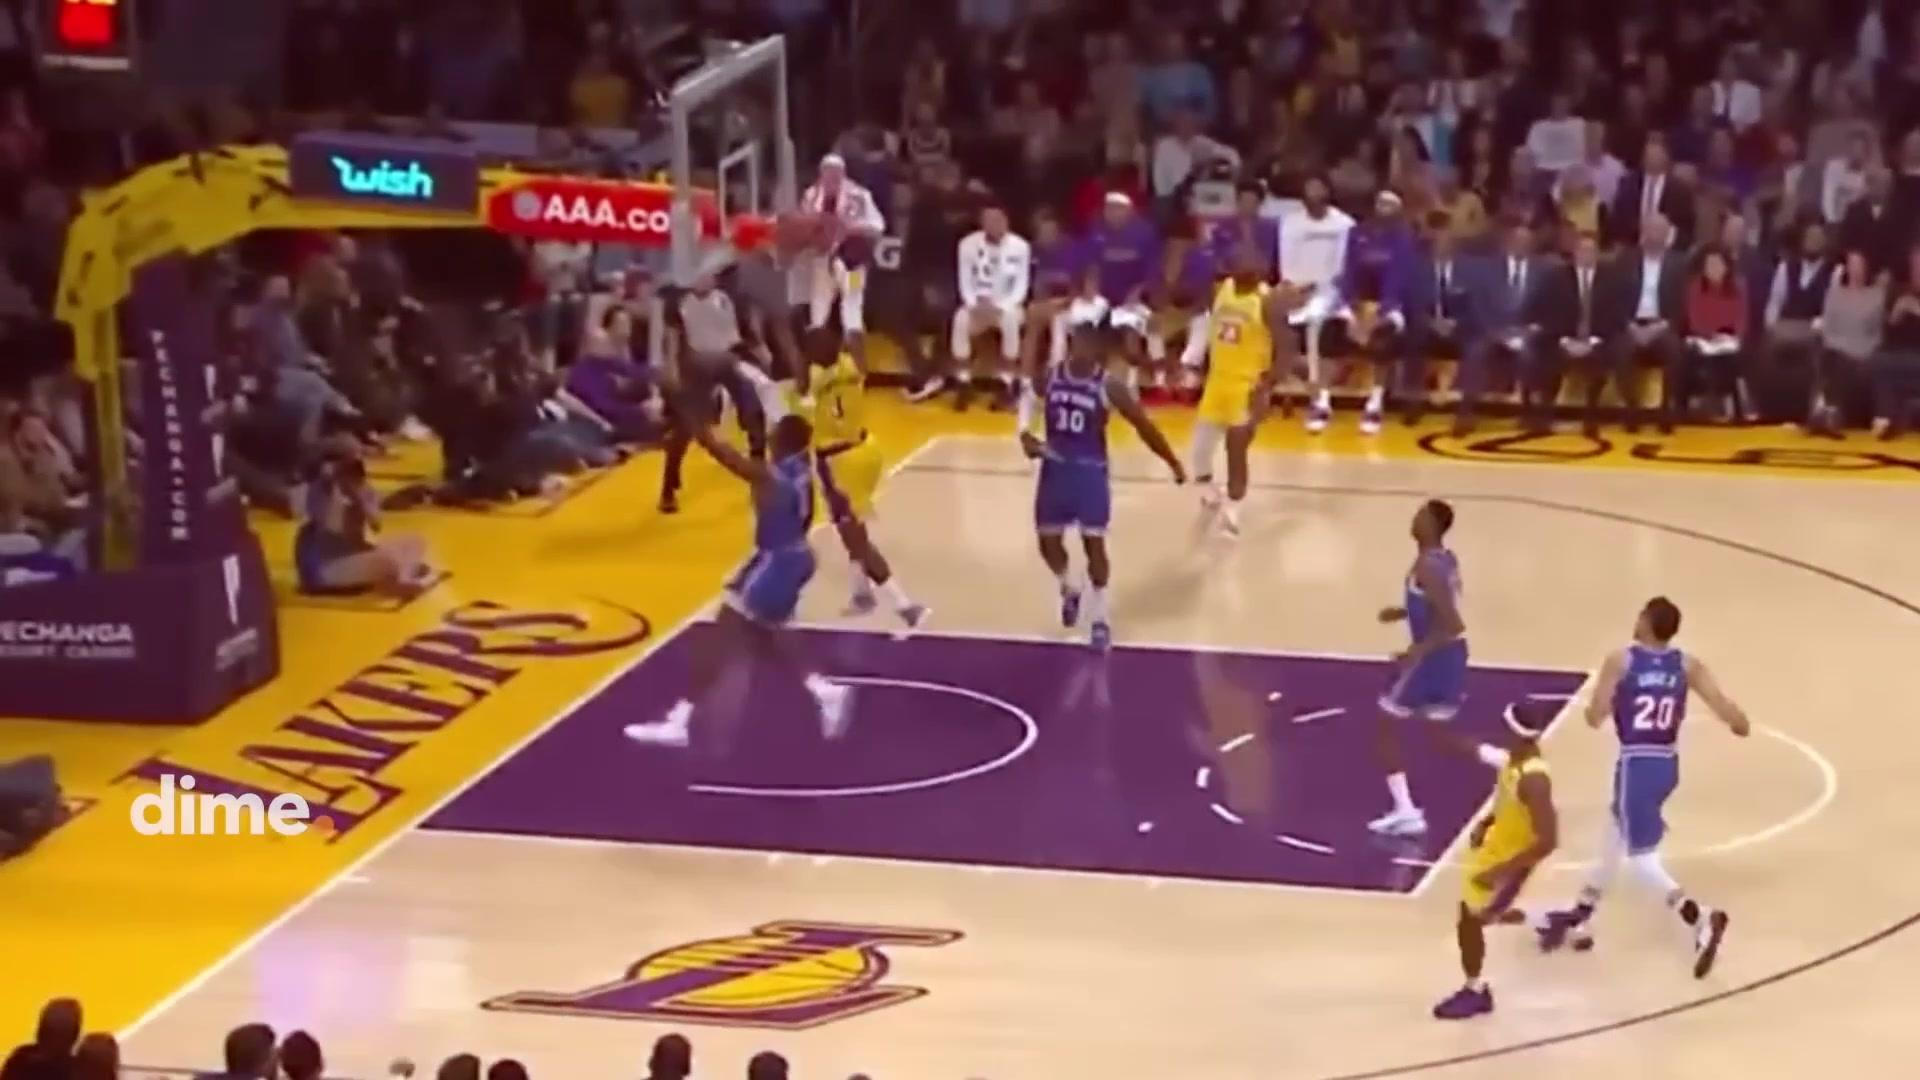no_foul: (662, 285, 919, 745)
